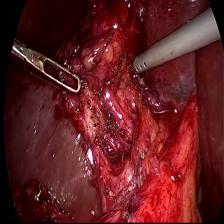Grasper: (12, 36, 86, 106)
Irrigator: (132, 43, 159, 81)
